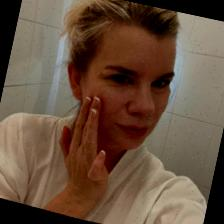Dry: (90, 38, 172, 141)
